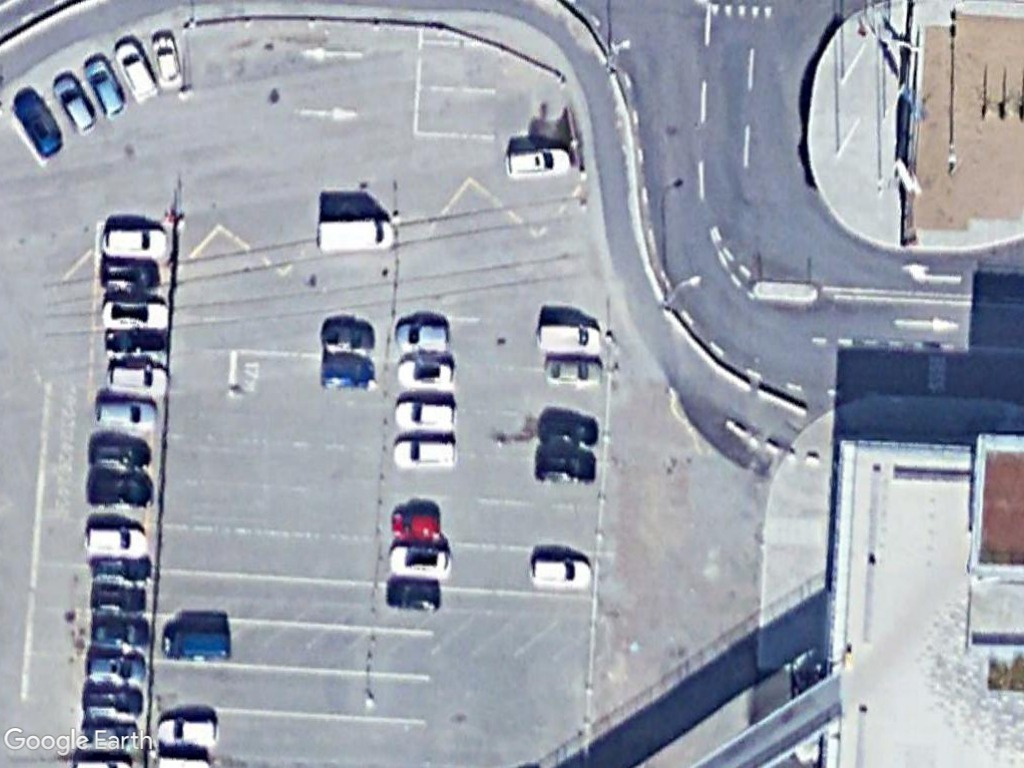car: (5, 85, 70, 161), (110, 35, 160, 108), (96, 222, 176, 266), (48, 70, 98, 140), (80, 53, 129, 124), (500, 141, 579, 184), (530, 316, 608, 358), (527, 445, 602, 488), (77, 646, 152, 689), (84, 432, 160, 474), (382, 541, 460, 581), (87, 395, 164, 434), (390, 434, 463, 474), (98, 295, 174, 333), (526, 554, 598, 594), (392, 355, 464, 395), (103, 359, 173, 399), (380, 576, 448, 617), (390, 395, 461, 432), (147, 30, 186, 97), (391, 318, 456, 358), (539, 355, 608, 391)
van: (312, 212, 398, 257), (157, 620, 235, 663), (74, 520, 153, 561), (153, 710, 225, 752)
